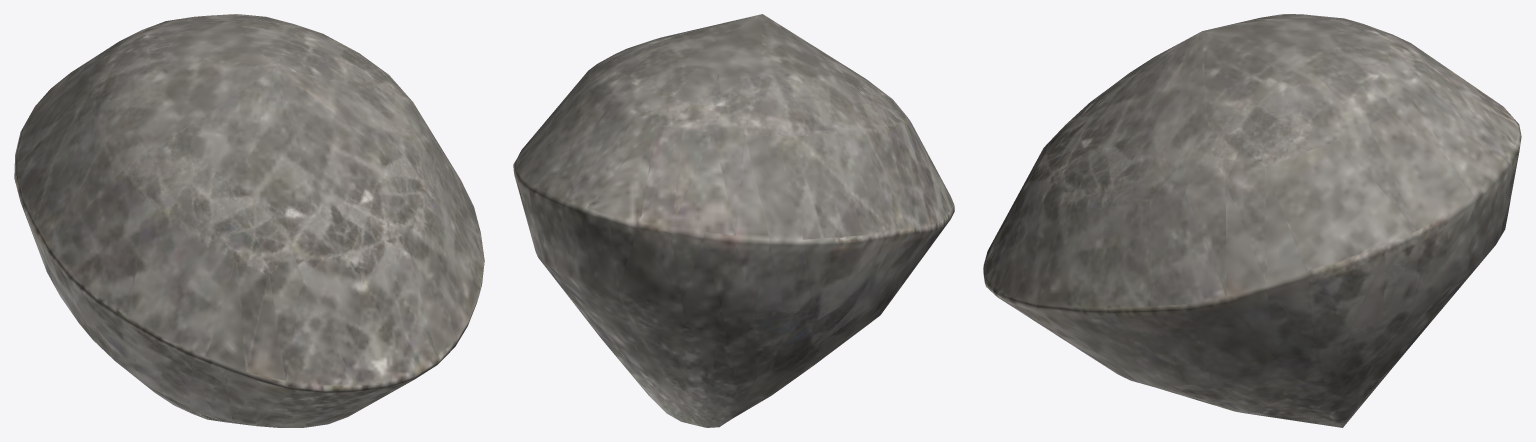
Rendered from g_gem.glb.
The picture shows the model from 3 angles, left to right: view 1: azimuth 30°, elevation 25°; view 2: azimuth 150°, elevation 25°; view 3: azimuth 270°, elevation 25°; orthographic projection. The views are drawn at different scales.
Parts seen in each view (by area): view 1: g_gem; view 2: g_gem; view 3: g_gem.
Boxes of the visible parts, x1,y1,x2,y2 form: g_gem: (14,14,484,427); g_gem: (513,14,954,427); g_gem: (983,14,1521,427).
Size of the model in its own units: 0.1063 by 0.1 by 0.1257.
Materials: 1 (1 with a texture image).
